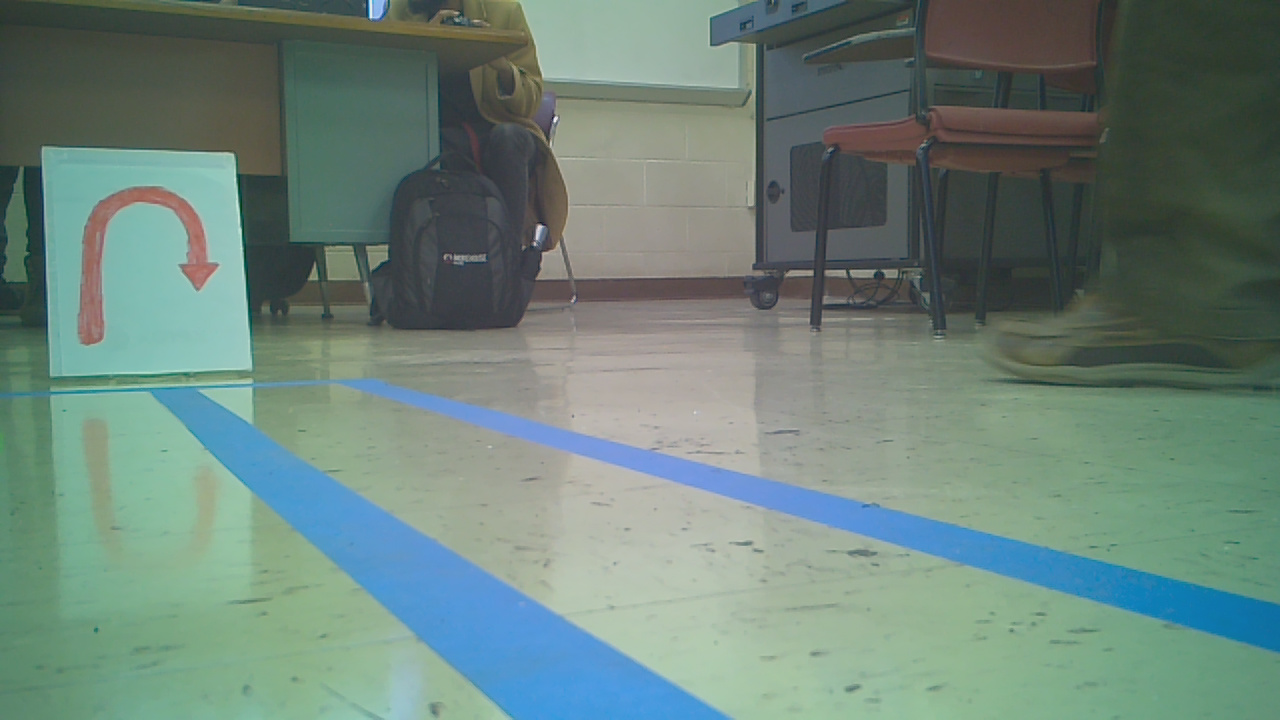uturn: (73, 182, 230, 347)
